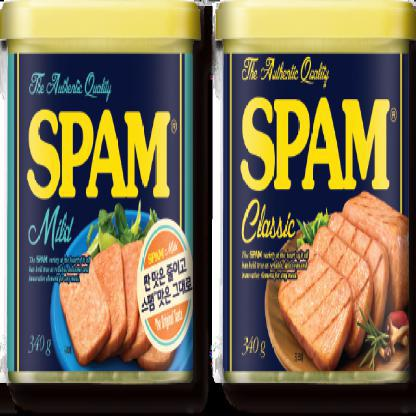spam: (215, 0, 415, 391), (2, 4, 199, 389)
